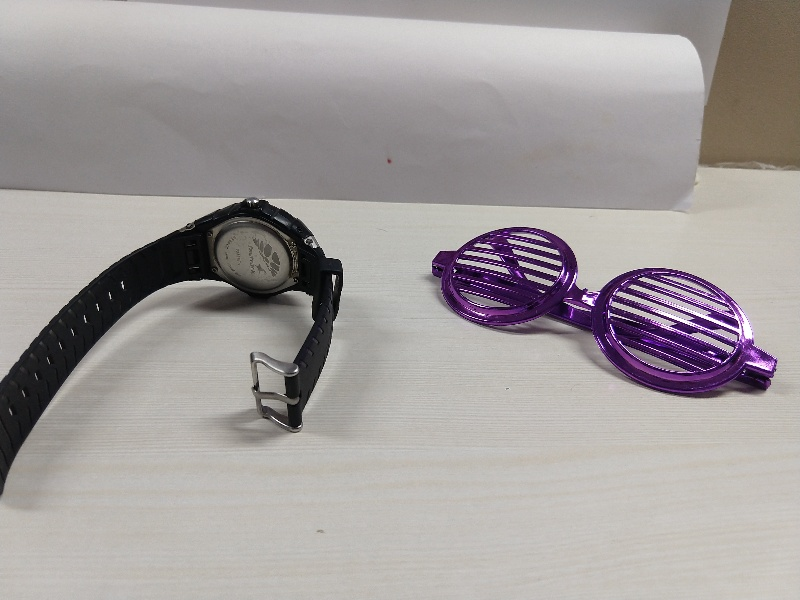shades: (425, 220, 781, 396)
watch: (1, 191, 347, 506)
